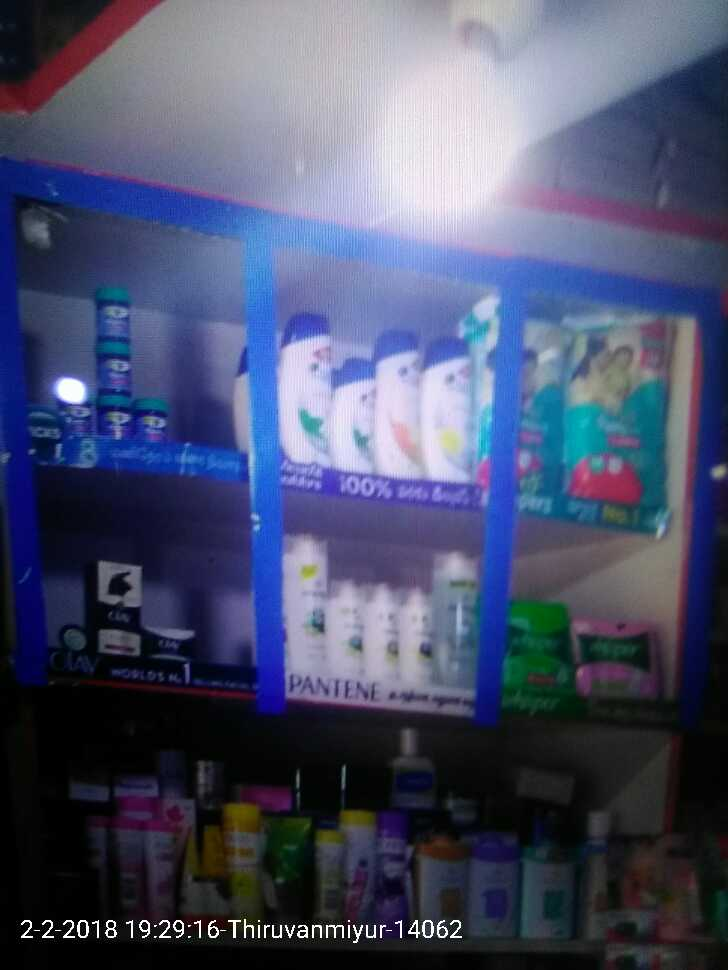vicks: (91, 281, 180, 447)
